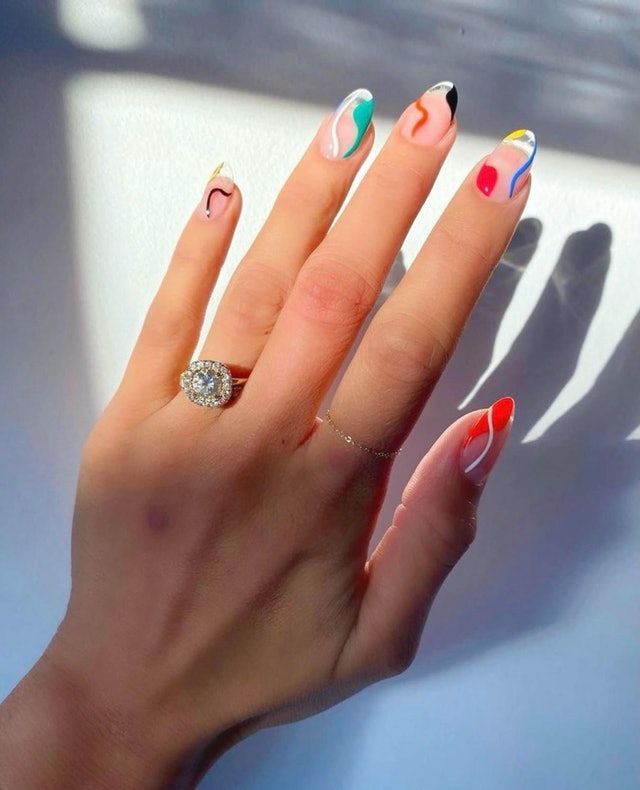nails: (456, 393, 518, 490), (472, 126, 542, 207), (313, 82, 378, 167), (396, 75, 464, 156), (195, 159, 237, 227)
